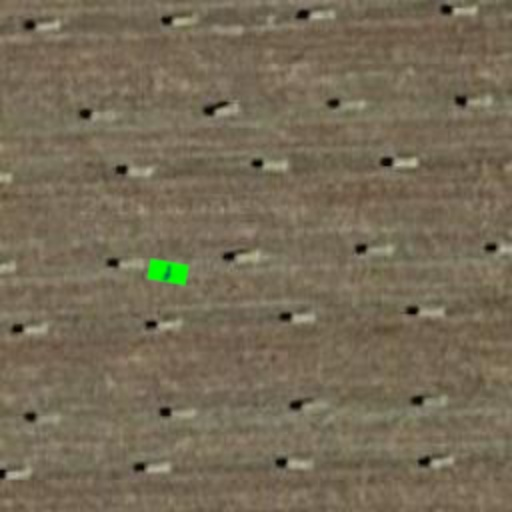rectangle: (144, 248, 192, 296)
